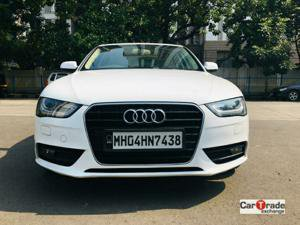car: (33, 38, 249, 177)
